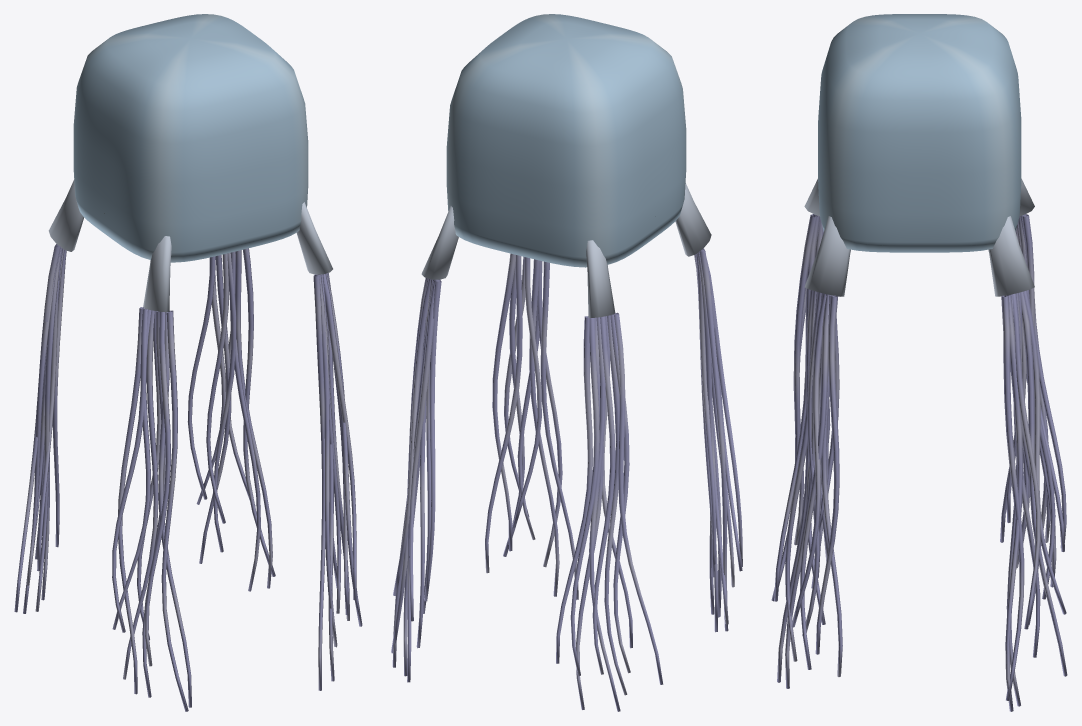
File: ChironexFleckeri.fbx
3 views of the same model, side by side, from view 1: azimuth 30°, elevation 25°; view 2: azimuth 150°, elevation 25°; view 3: azimuth 270°, elevation 25° (orthographic).
Visible parts, largest first — view 1: ChironexFleckeri; view 2: ChironexFleckeri; view 3: ChironexFleckeri.
Boxes of the visible parts, x1=… form: ChironexFleckeri: x1=14, y1=14, x2=362, y2=711; ChironexFleckeri: x1=391, y1=14, x2=742, y2=711; ChironexFleckeri: x1=771, y1=14, x2=1067, y2=711.
Size of the model in its own units: 0.9702 by 2.16 by 0.9354.
